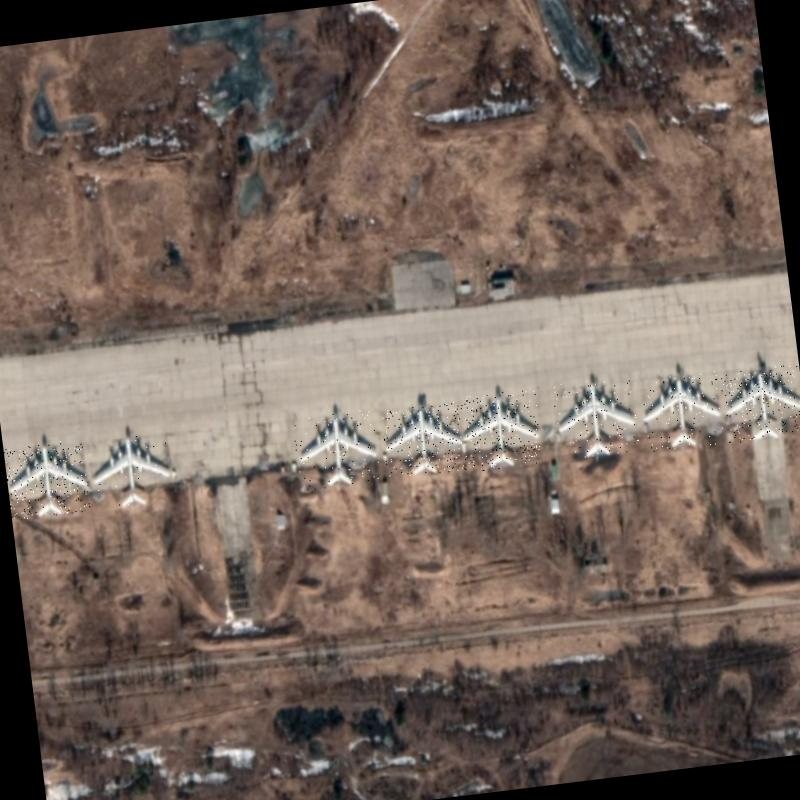A17: (550, 375, 640, 461), (455, 388, 544, 472), (636, 370, 724, 453), (86, 430, 174, 512), (3, 438, 91, 520), (292, 408, 380, 490), (379, 401, 467, 479), (719, 363, 800, 443)
